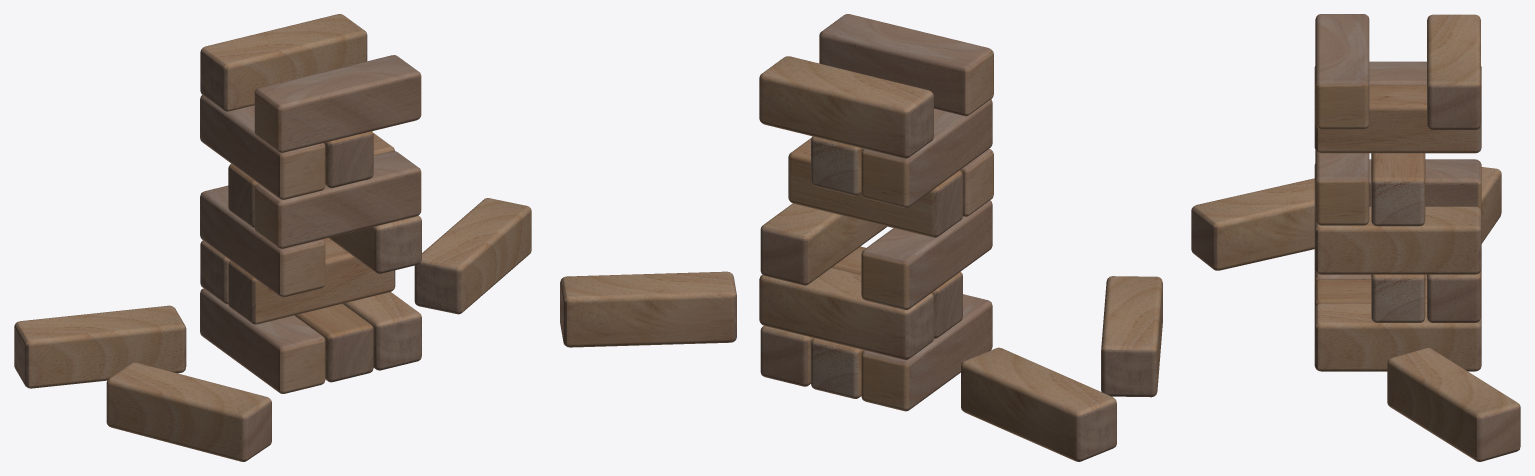
File: jenga.glb
3 renders of one model, left to right at view 1: azimuth 30°, elevation 25°; view 2: azimuth 150°, elevation 25°; view 3: azimuth 270°, elevation 25°, orthographic. The views are drawn at different scales.
Parts seen in each view (by area): view 1: pCube23, pCube25, pCube21, pCube24, pCube17, pCube26, pCube7, pCube14, pCube20, pCube10, pCube8, pCube9 (+4 smaller); view 2: pCube26, pCube24, pCube21, pCube23, pCube12, pCube14, pCube20, pCube25, pCube7, pCube13, pCube16, pCube8 (+4 smaller); view 3: pCube26, pCube13, pCube25, pCube8, pCube19, pCube23, pCube24, pCube16, pCube17, pCube14, pCube10, pCube12 (+4 smaller).
Part boxes in pixels (x1,y1,x2,y2): pCube23: (254,55,421,152); pCube25: (106,362,271,461); pCube21: (14,305,186,388); pCube24: (200,14,367,111); pCube17: (254,151,421,248); pCube26: (414,198,531,314); pCube7: (200,288,325,393); pCube14: (200,185,325,297); pCube20: (200,95,325,199); pCube10: (228,238,395,324); pCube8: (343,292,421,370); pCube9: (295,303,373,382); pCube26: (560,271,736,347); pCube24: (759,56,933,158); pCube21: (961,347,1116,461); pCube23: (819,14,993,116); pCube12: (759,268,933,359); pCube14: (861,200,992,309); pCube20: (861,99,992,207); pCube25: (1101,276,1162,397); pCube7: (861,294,992,411); pCube13: (760,203,886,285); pCube16: (788,138,962,237); pCube8: (760,326,813,386); pCube26: (1387,348,1520,461); pCube13: (1314,206,1481,274); pCube25: (1191,178,1314,270); pCube8: (1314,303,1481,371); pCube19: (1314,85,1481,153); pCube23: (1315,14,1369,129); pCube24: (1427,14,1480,129); pCube16: (1371,153,1425,226); pCube17: (1315,150,1369,225); pCube14: (1314,159,1481,211); pCube10: (1371,274,1425,322); pCube12: (1427,271,1480,322).
Bounding box in the file's own units: 11.11 × 5.94 × 6.1.
Materials: 1 (1 with a texture image).
